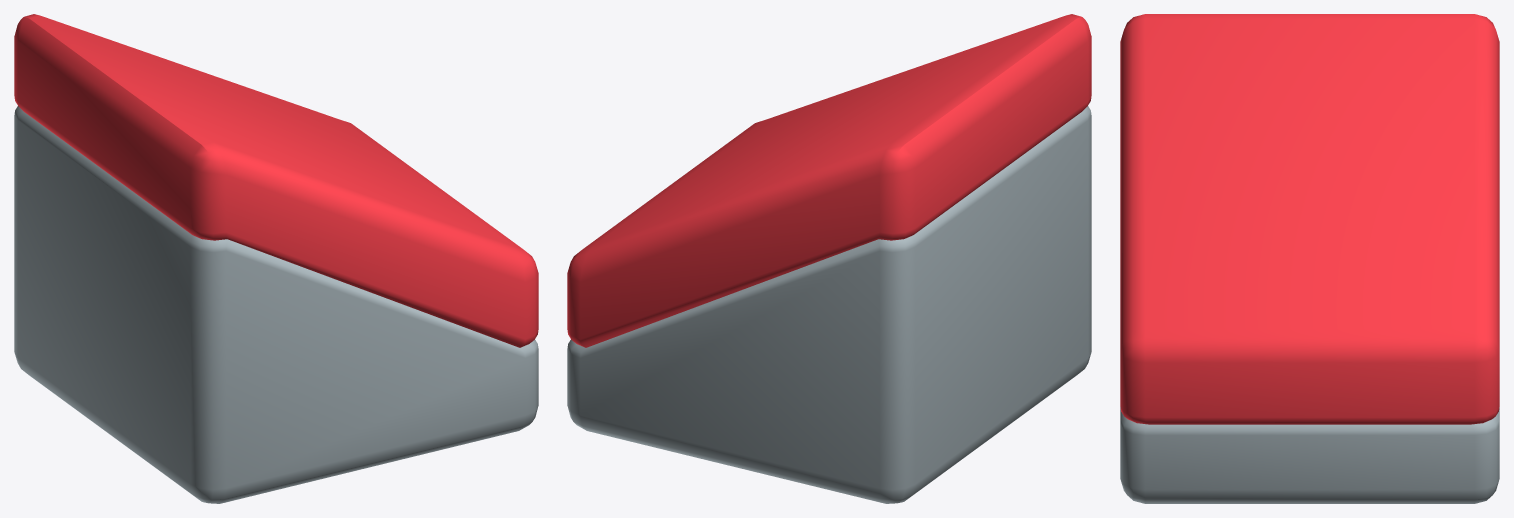
The model's file is tileSlopeLowHigh_teamRed.glb.
3 views of the same model, side by side, from view 1: azimuth 30°, elevation 25°; view 2: azimuth 150°, elevation 25°; view 3: azimuth 270°, elevation 25° (orthographic). The views are drawn at different scales.
Visible parts, largest first — view 1: tileSlopeLowHigh_teamRed; view 2: tileSlopeLowHigh_teamRed; view 3: tileSlopeLowHigh_teamRed.
Boxes of the visible parts, x1,y1,x2,y2 form: tileSlopeLowHigh_teamRed: (14,14,538,503); tileSlopeLowHigh_teamRed: (567,14,1091,503); tileSlopeLowHigh_teamRed: (1120,14,1499,503).
Size of the model in its own units: 0.6 by 0.6 by 0.6.
